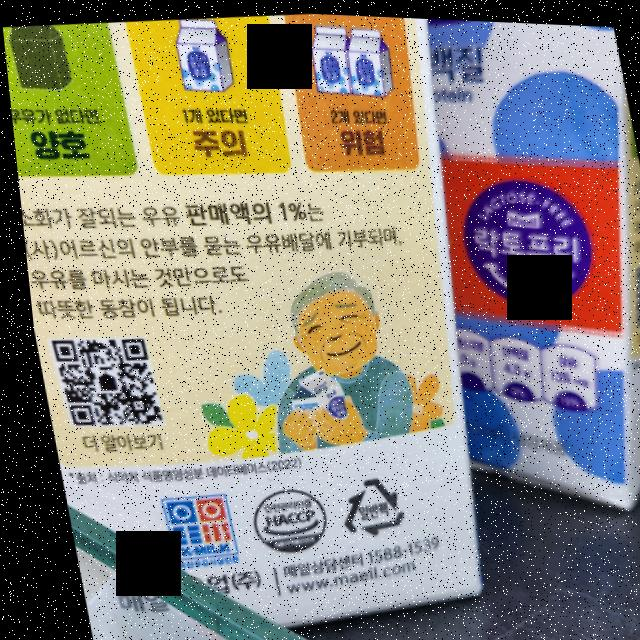NormalPack: (321, 464, 397, 540)
